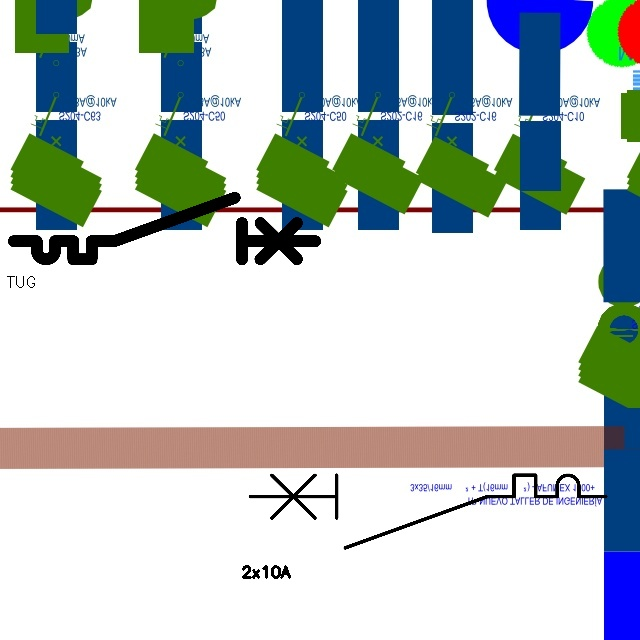interruptor_termomagnetico: (241, 466, 615, 557), (6, 190, 323, 267)
